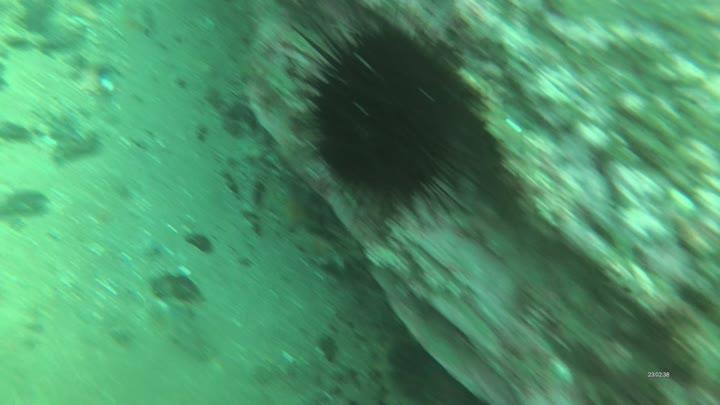urchin: (280, 14, 484, 213)
